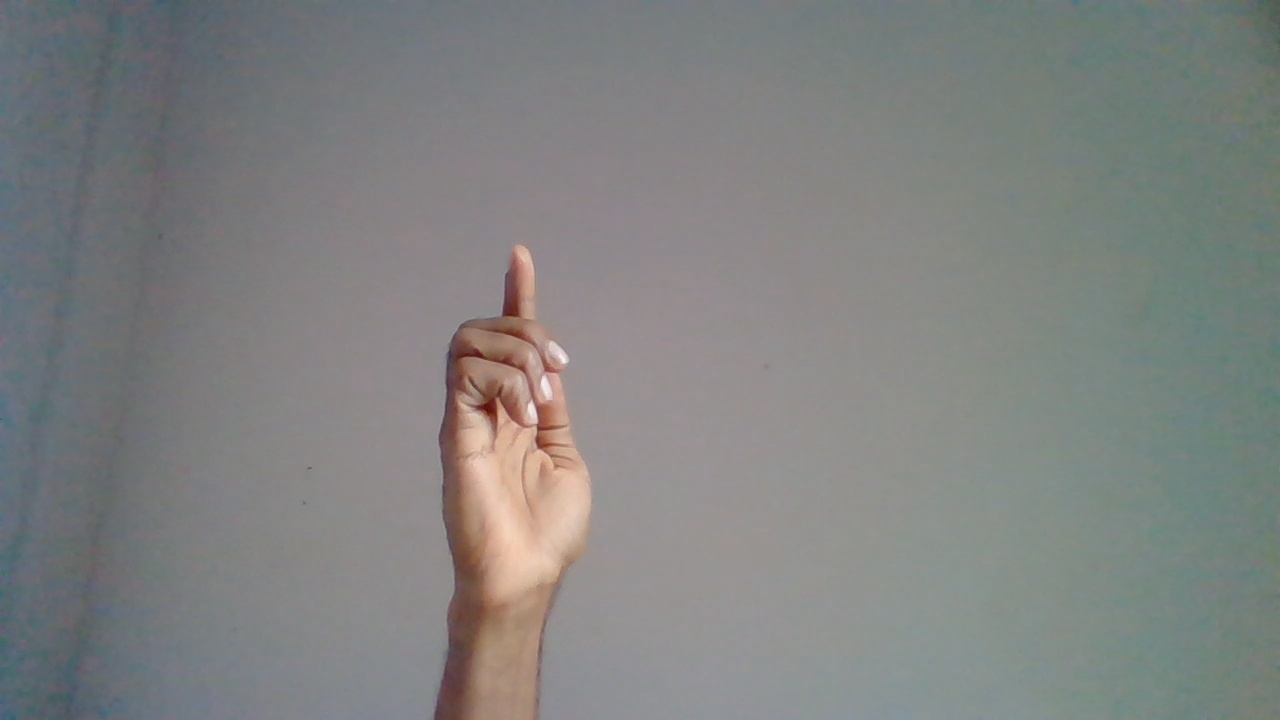qe: (435, 234, 595, 671)
